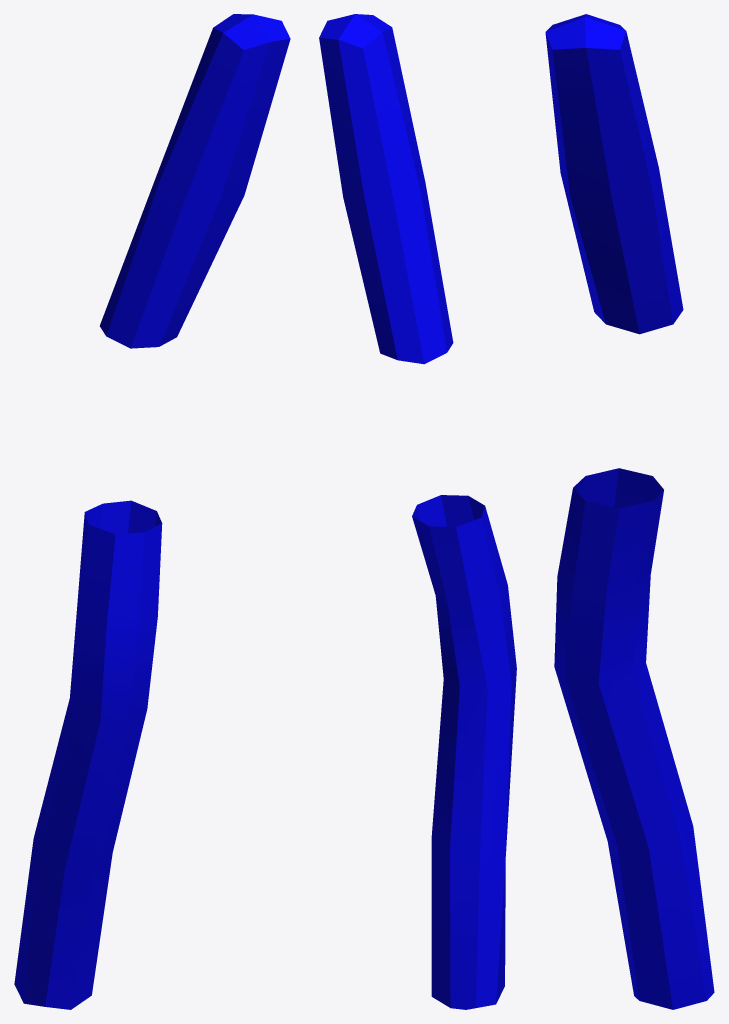
3 renders of one model, left to right at view 1: azimuth 30°, elevation 25°; view 2: azimuth 150°, elevation 25°; view 3: azimuth 270°, elevation 25°, orthographic. The views are drawn at different scales.
Parts seen in each view (by area): view 1: ET_coaxialite; view 2: ET_coaxialite; view 3: ET_coaxialite.
Boxes of the visible parts, box(x1,y1,x2,y2) form: ET_coaxialite: box(14, 14, 290, 1009); ET_coaxialite: box(319, 14, 516, 1009); ET_coaxialite: box(545, 14, 714, 1009).
Bounding box in the file's own units: 0.0285 × 0.1228 × 0.0175.
